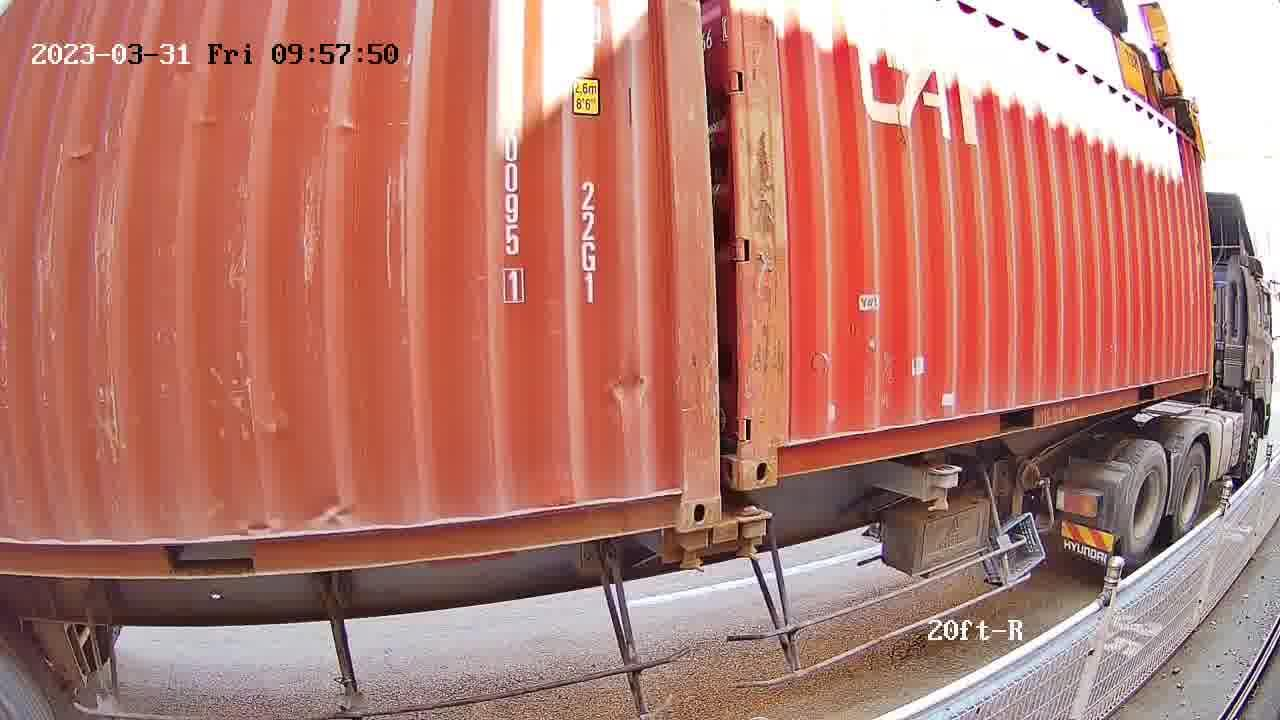Cone: (675, 527, 714, 575), (736, 505, 766, 558)
Hole_L: (740, 414, 807, 490)
Hole_R: (644, 458, 722, 531)
Tire: (1118, 445, 1167, 552), (1171, 445, 1206, 530)
